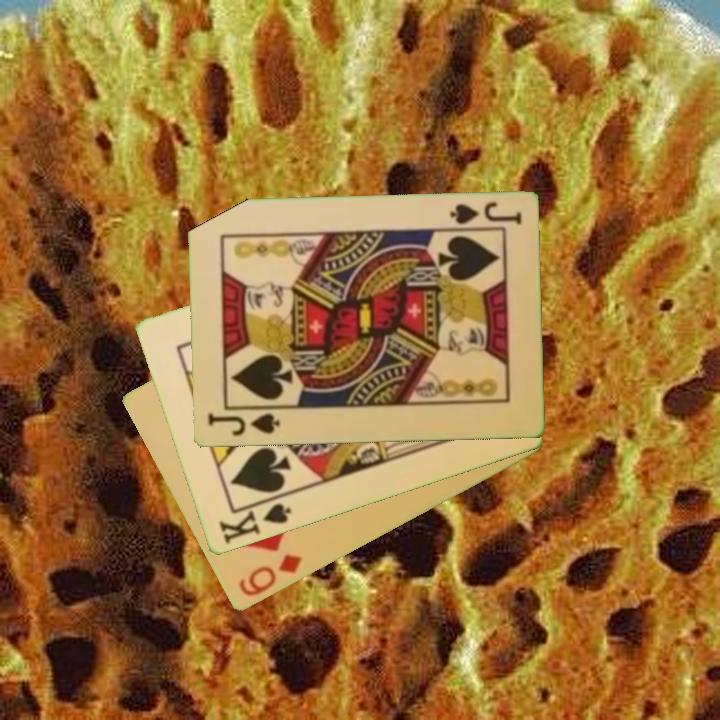6d: (234, 551, 305, 600)
Js: (203, 410, 283, 439), (446, 199, 524, 228)
Ks: (215, 492, 294, 548)
